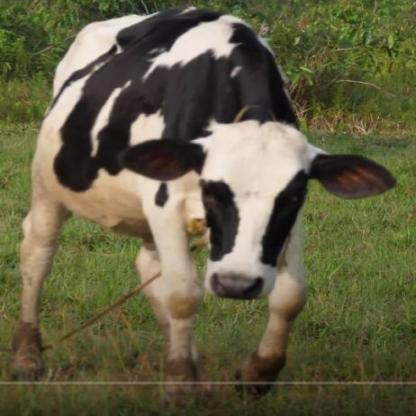cow: (12, 6, 397, 396)
